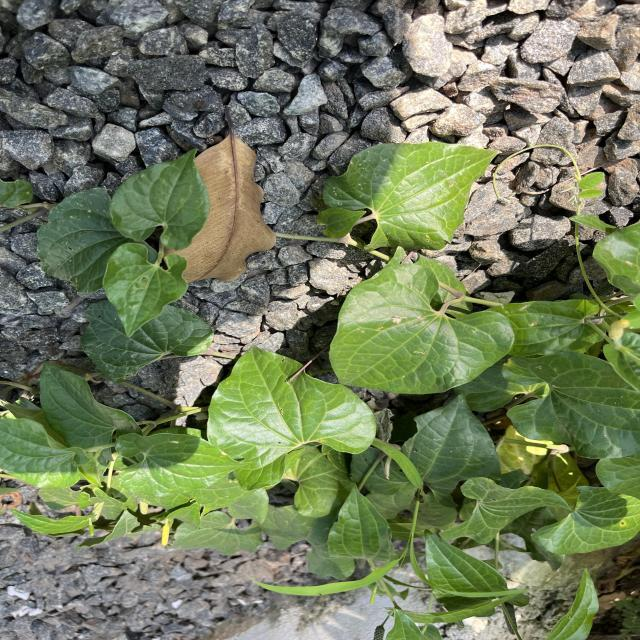Piper longum: (326, 260, 518, 398), (204, 344, 378, 494), (319, 137, 503, 257)
